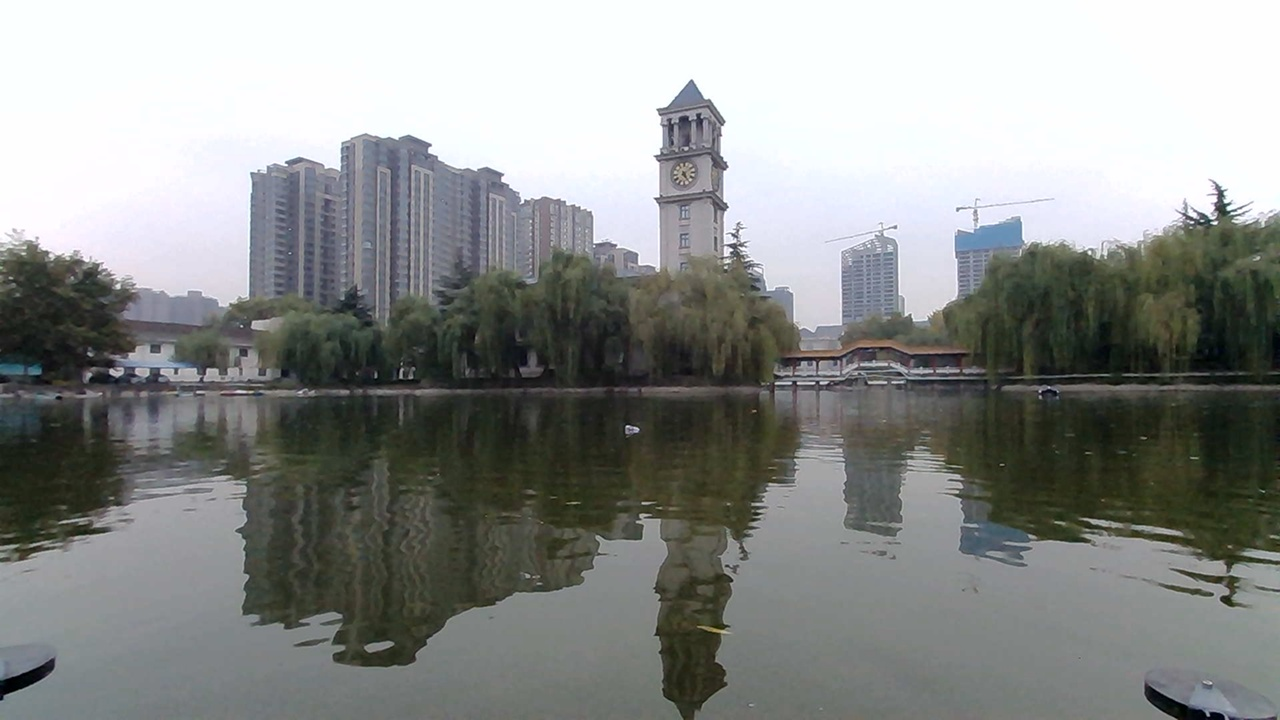bottle: (613, 418, 665, 456)
